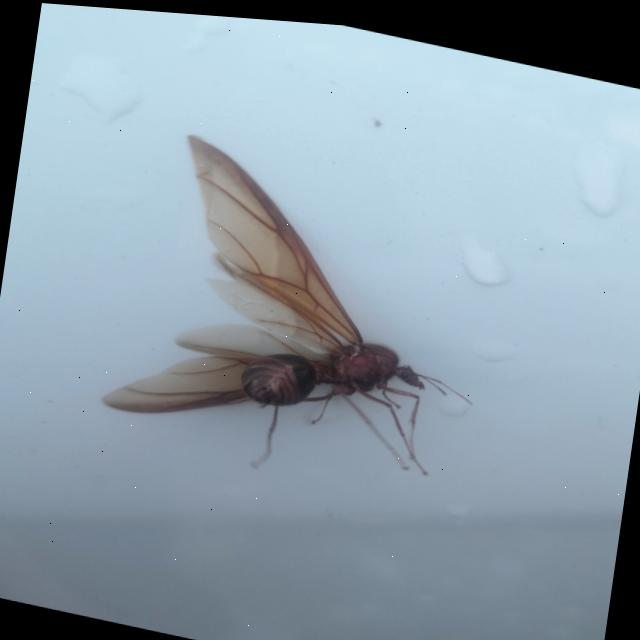Dead-Male-Alate: (98, 119, 502, 508)
